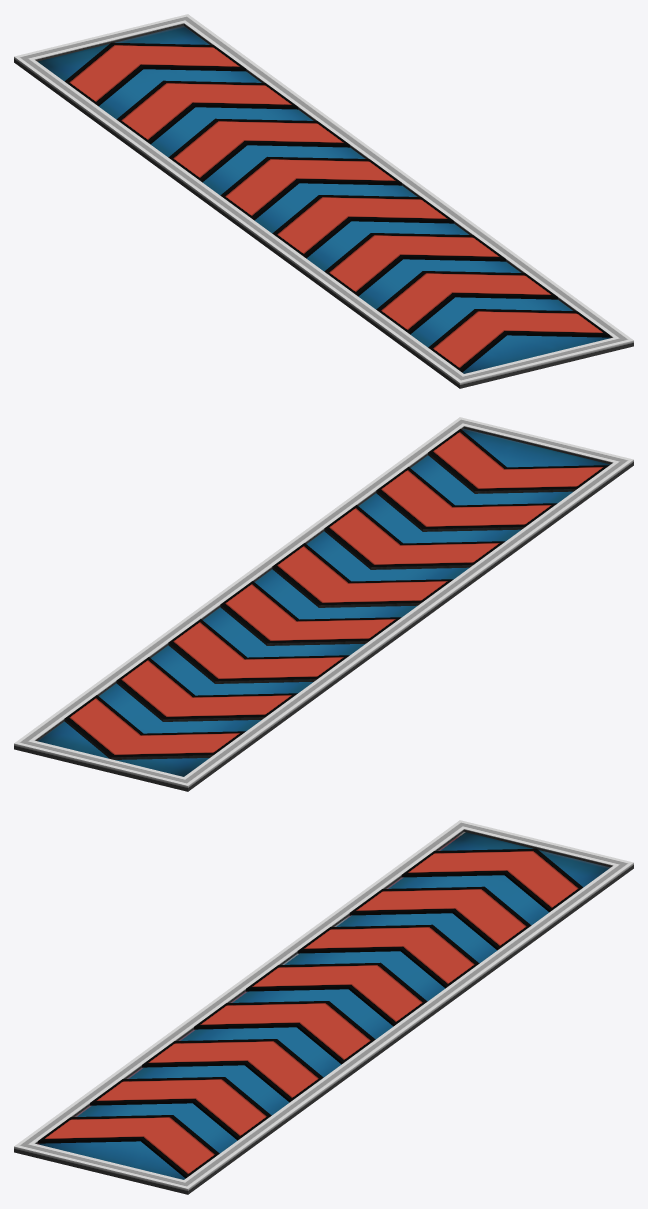
Rendered from AccelBoard03.FBX.
3 views of the same model, one above another, from view 1: azimuth 30°, elevation 25°; view 2: azimuth 150°, elevation 25°; view 3: azimuth 330°, elevation 25° (orthographic).
Parts seen in each view (by area): view 1: AccelBoard03; view 2: AccelBoard03; view 3: AccelBoard03.
Part boxes in pixels (<box>): AccelBoard03: <box>14,14,633,388</box>; AccelBoard03: <box>14,417,633,791</box>; AccelBoard03: <box>14,820,633,1194</box>.
Size of the model in its own units: 80 by 2.61 by 355.
